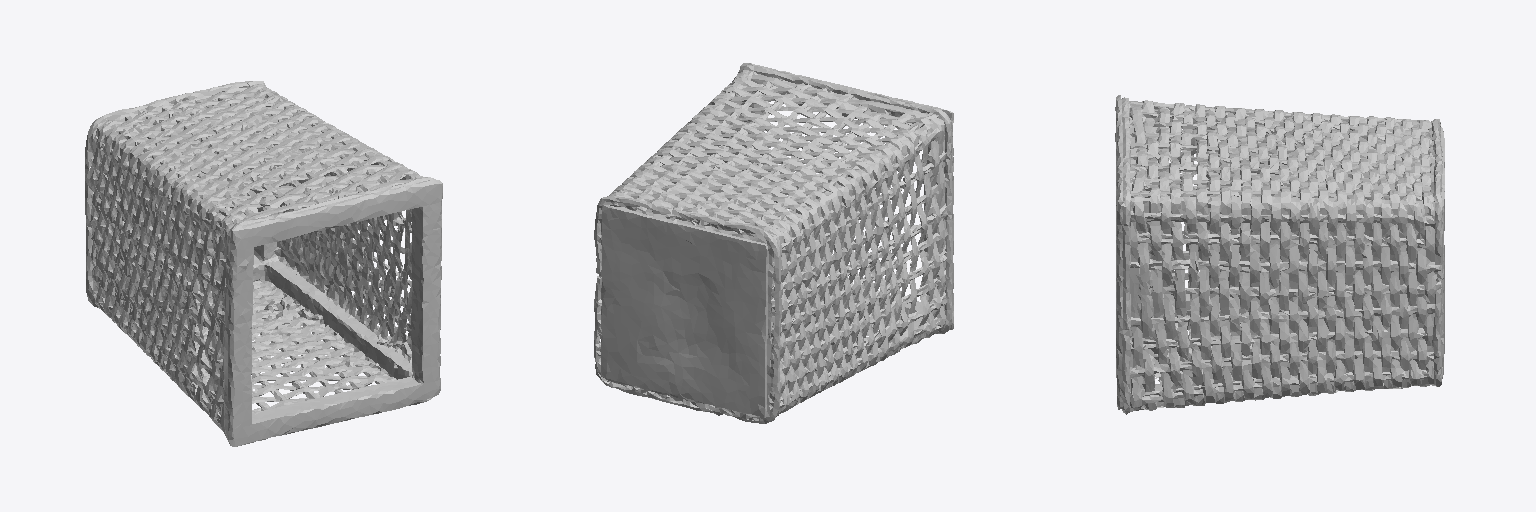
File: kos-low.obj
3 renders of one model, left to right at view 1: azimuth 30°, elevation 25°; view 2: azimuth 150°, elevation 25°; view 3: azimuth 270°, elevation 25°, orthographic.
Visible parts, largest first — view 1: default; view 2: default; view 3: default.
Boxes of the visible parts, <box> form: default: <box>85,81,442,446</box>; default: <box>594,63,953,423</box>; default: <box>1115,95,1444,414</box>.
Bounding box in the file's own units: 12.27 × 12.19 × 16.22.